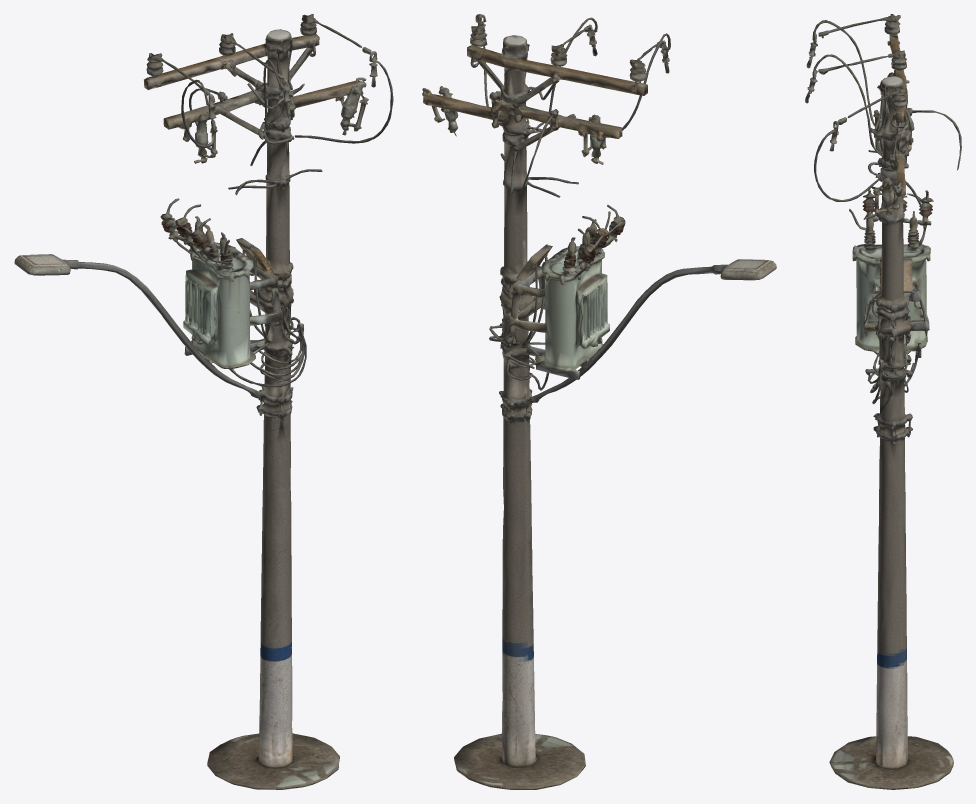
Rendered from power_pole.glb.
The picture shows the model from 3 angles, left to right: view 1: azimuth 30°, elevation 25°; view 2: azimuth 150°, elevation 25°; view 3: azimuth 270°, elevation 25°; orthographic projection. The views are drawn at different scales.
Parts seen in each view (by area): view 1: power_pole; view 2: power_pole; view 3: power_pole.
Part boxes in pixels (x1=…): power_pole: x1=14, y1=14, x2=393, y2=789; power_pole: x1=422, y1=14, x2=776, y2=789; power_pole: x1=805, y1=14, x2=961, y2=789.
Bounding box in the file's own units: 94.12 × 191 × 39.01.
1 material, 1 textured.
